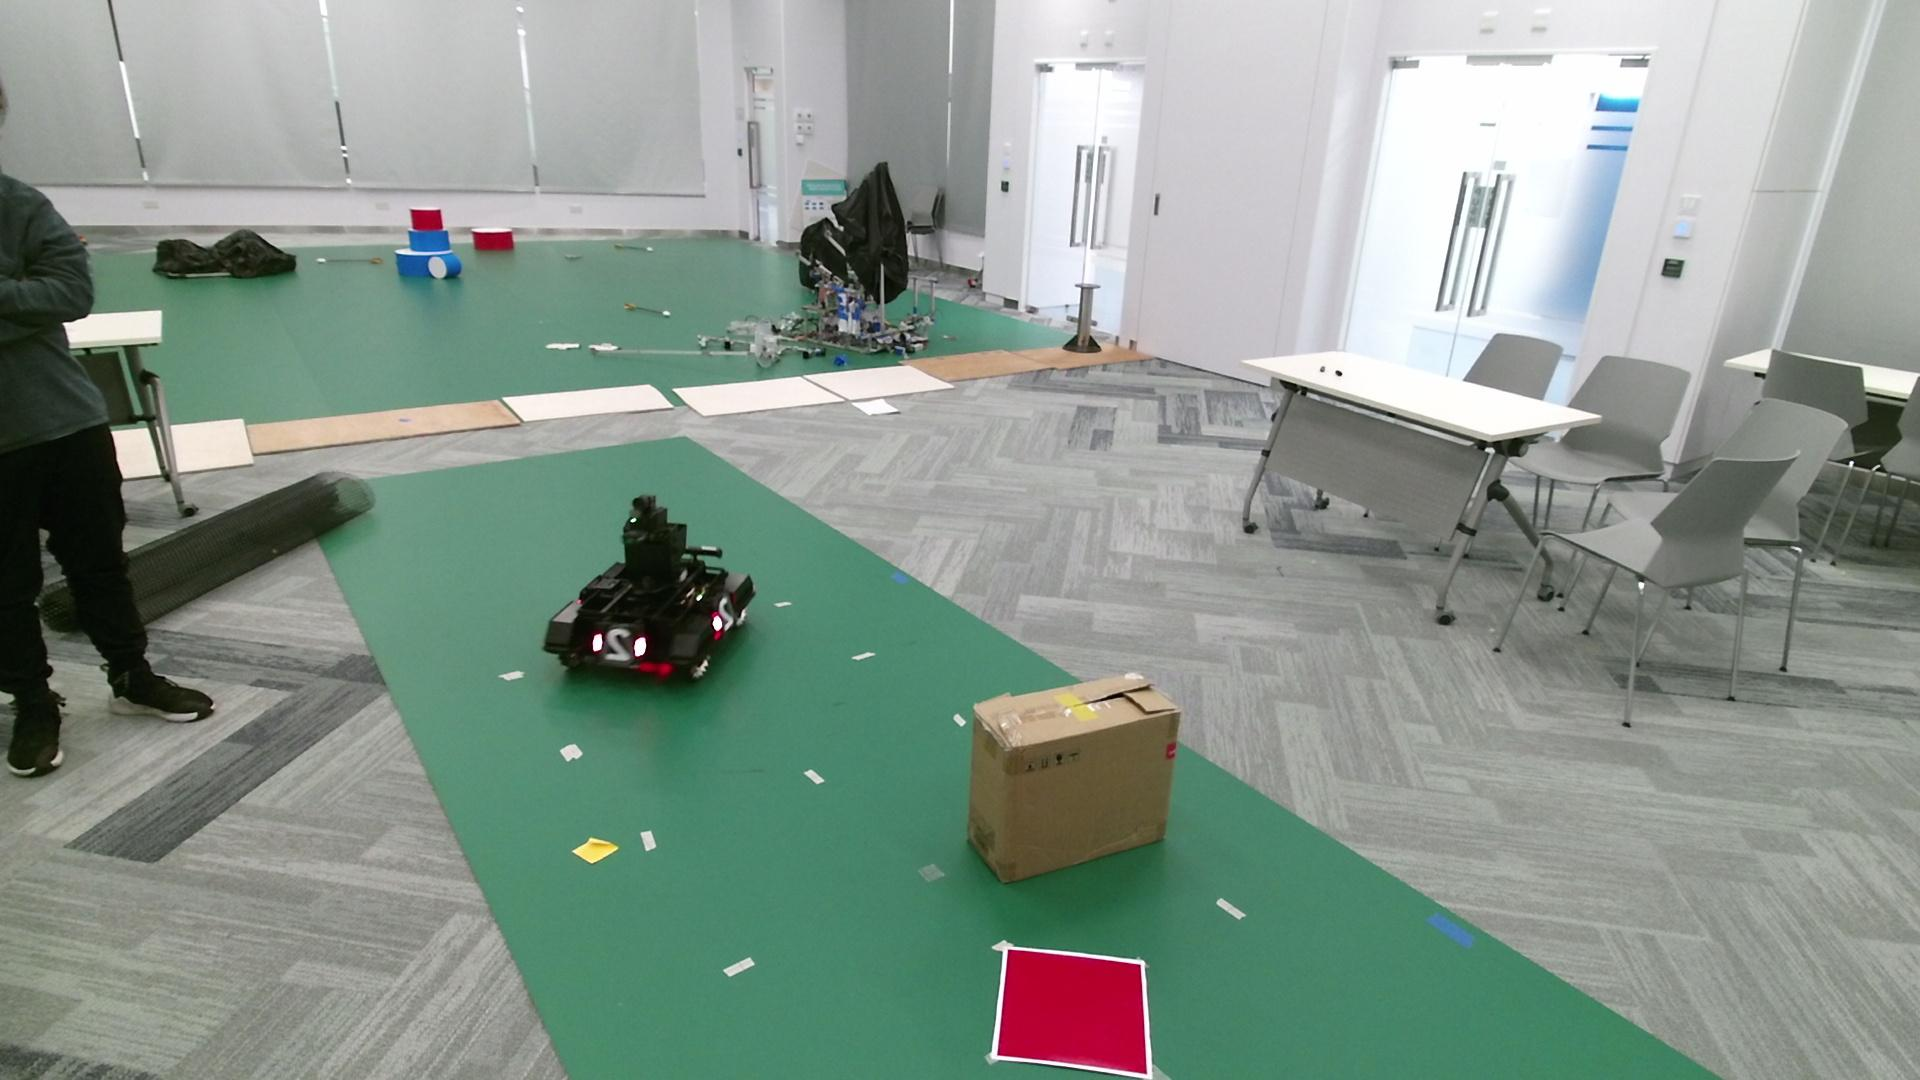robot: (543, 493, 757, 680)
